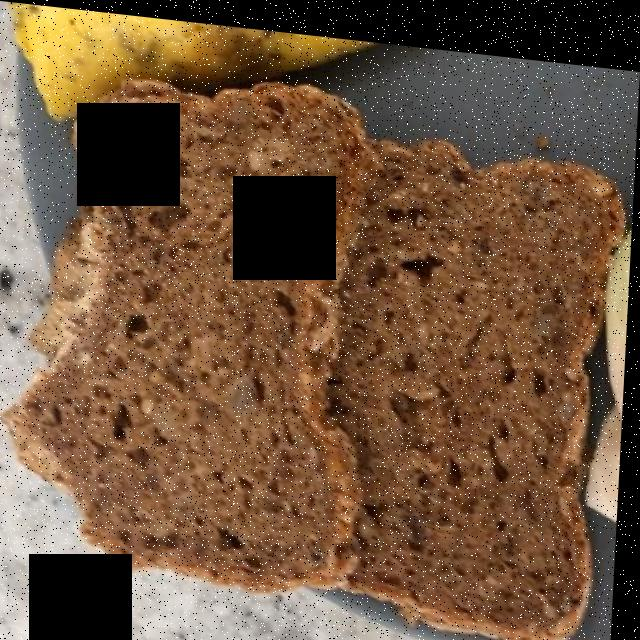egg: (18, 6, 362, 112)
gluten-free-bread: (17, 64, 615, 626)
